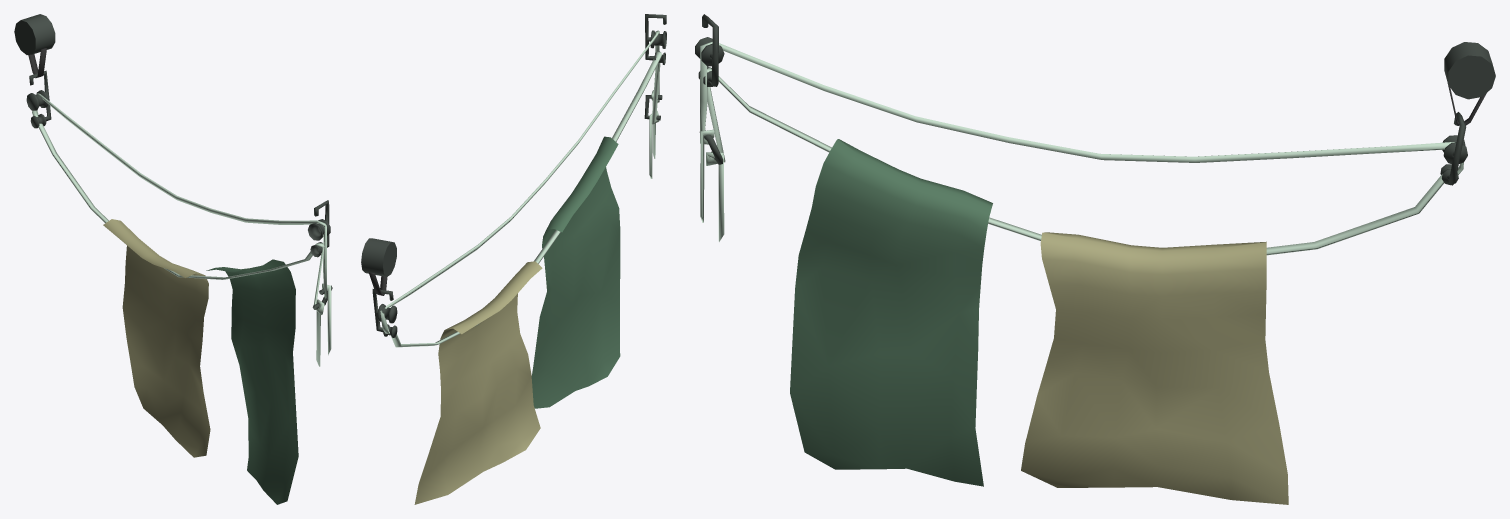
File: LaundrySheets_a.fbx
3 renders of one model, left to right at view 1: azimuth 30°, elevation 25°; view 2: azimuth 150°, elevation 25°; view 3: azimuth 270°, elevation 25°, orthographic. The views are drawn at different scales.
Parts seen in each view (by area): view 1: LaundrySheet.001, Clothing Line; view 2: LaundrySheet.001, Clothing Line; view 3: LaundrySheet.001, Clothing Line.
Part boxes in pixels (bbox=[...]): LaundrySheet.001: bbox=[103, 219, 298, 504]; Clothing Line: bbox=[14, 14, 332, 366]; LaundrySheet.001: bbox=[414, 136, 620, 504]; Clothing Line: bbox=[361, 14, 666, 347]; LaundrySheet.001: bbox=[790, 139, 1288, 504]; Clothing Line: bbox=[695, 14, 1495, 255].
Bounding box in the file's own units: 0.4378 × 5.19 × 3.36.
